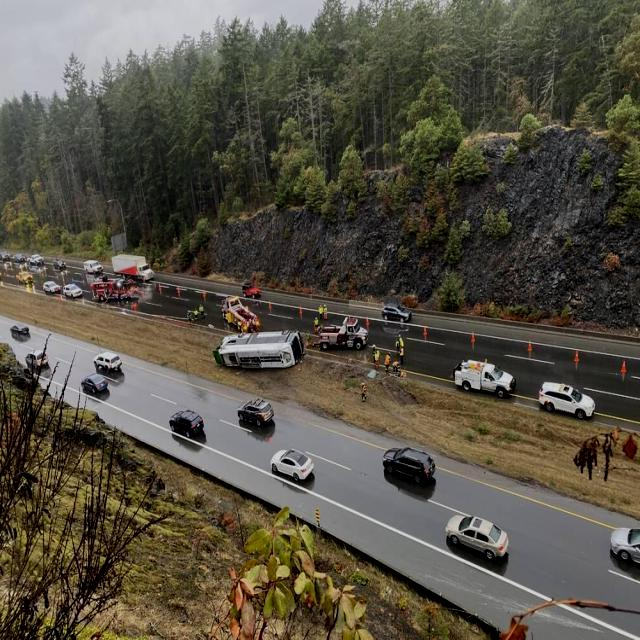accident: (206, 328, 308, 374)
non-accident: (80, 352, 122, 396), (43, 281, 83, 301), (13, 252, 44, 268)
